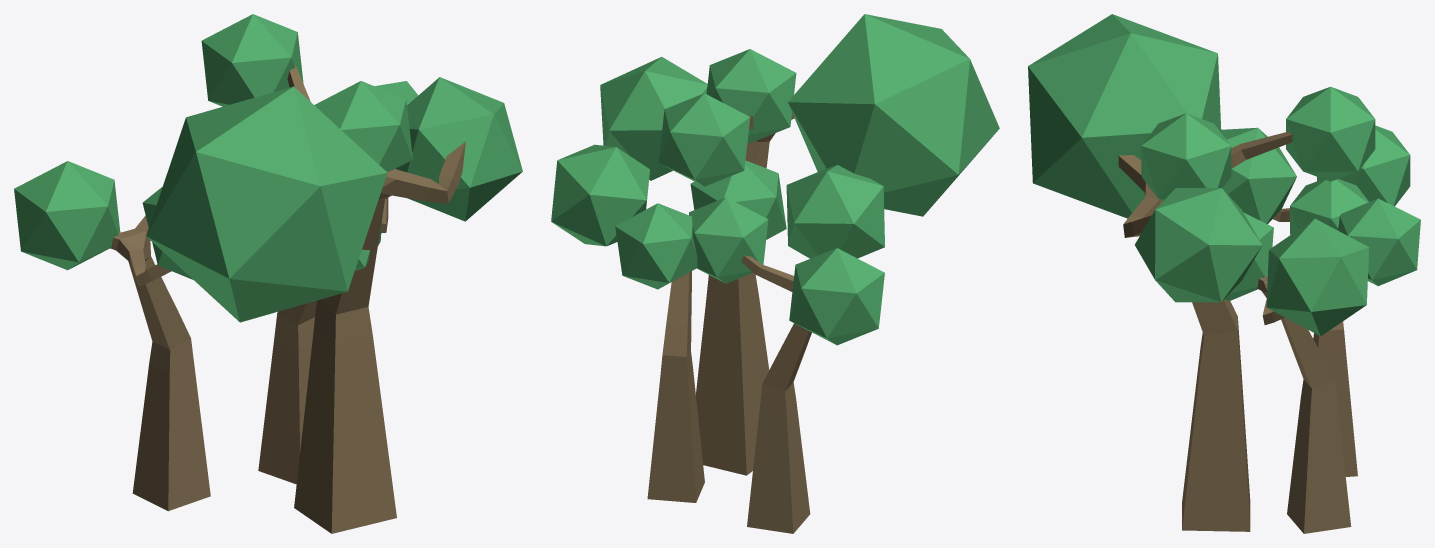
File: treestruetrueFBX(1).fbx
3 views of the same model, side by side, from view 1: azimuth 30°, elevation 25°; view 2: azimuth 150°, elevation 25°; view 3: azimuth 270°, elevation 25° (orthographic). The views are drawn at different scales.
Parts seen in each view (by area): view 1: Icosphere.002, Cube, Cube.001, Icosphere.001, Icosphere.006, Cube.002, Icosphere, Icosphere.005, Icosphere.004; view 2: Icosphere.002, Cube, Cube.001, Cube.002, Icosphere.004, Icosphere.008, Icosphere.006, Icosphere.001, Icosphere, Icosphere.005, Icosphere.007, Icosphere.003 (+1 smaller); view 3: Icosphere.002, Cube, Icosphere.001, Cube.002, Icosphere.008, Icosphere, Icosphere.005, Icosphere.007, Icosphere.004, Icosphere.006, Cube.001, Icosphere.003 (+1 smaller).
Part boxes in pixels (<box>): Icosphere.002: <box>146,86,387,322</box>; Cube: <box>287,64,465,533</box>; Cube.001: <box>110,215,210,511</box>; Icosphere.001: <box>396,77,522,221</box>; Icosphere.006: <box>14,161,120,270</box>; Cube.002: <box>258,198,388,484</box>; Icosphere: <box>201,14,303,106</box>; Icosphere.005: <box>314,81,412,171</box>; Icosphere.004: <box>142,187,192,279</box>; Icosphere.002: <box>788,14,999,216</box>; Cube: <box>696,112,794,475</box>; Cube.001: <box>741,255,811,533</box>; Cube.002: <box>647,271,704,502</box>; Icosphere.004: <box>786,165,884,258</box>; Icosphere.008: <box>551,144,649,246</box>; Icosphere.006: <box>789,248,884,345</box>; Icosphere.001: <box>600,57,707,180</box>; Icosphere: <box>658,93,750,186</box>; Icosphere.005: <box>706,49,796,143</box>; Icosphere.007: <box>615,203,697,289</box>; Icosphere.003: <box>689,197,768,283</box>; Icosphere.002: <box>1028,14,1221,218</box>; Cube: <box>1118,131,1294,531</box>; Icosphere.001: <box>1135,188,1262,302</box>; Cube.002: <box>1256,275,1351,533</box>; Icosphere.008: <box>1266,218,1369,336</box>; Icosphere: <box>1286,86,1375,181</box>; Icosphere.005: <box>1141,113,1231,200</box>; Icosphere.007: <box>1338,198,1420,286</box>; Icosphere.004: <box>1221,127,1296,224</box>; Icosphere.006: <box>1317,125,1410,206</box>; Cube.001: <box>1273,208,1357,476</box>; Icosphere.003: <box>1290,179,1368,234</box>.
Bounding box in the file's own units: 203 × 237 × 191.
